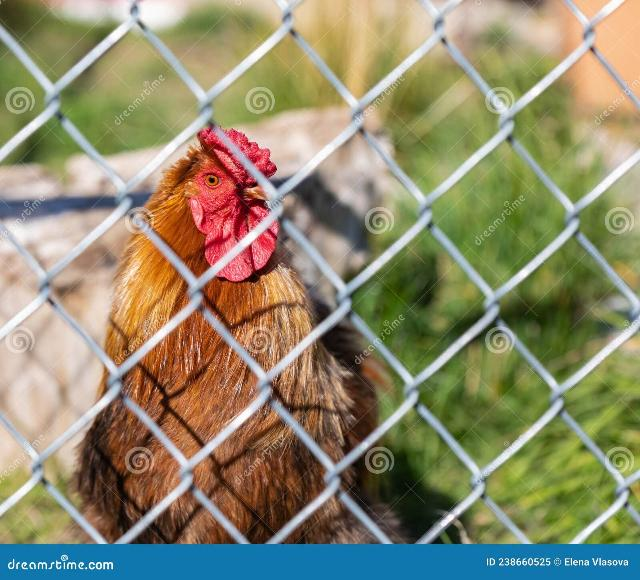Chicken: (89, 128, 414, 547)
